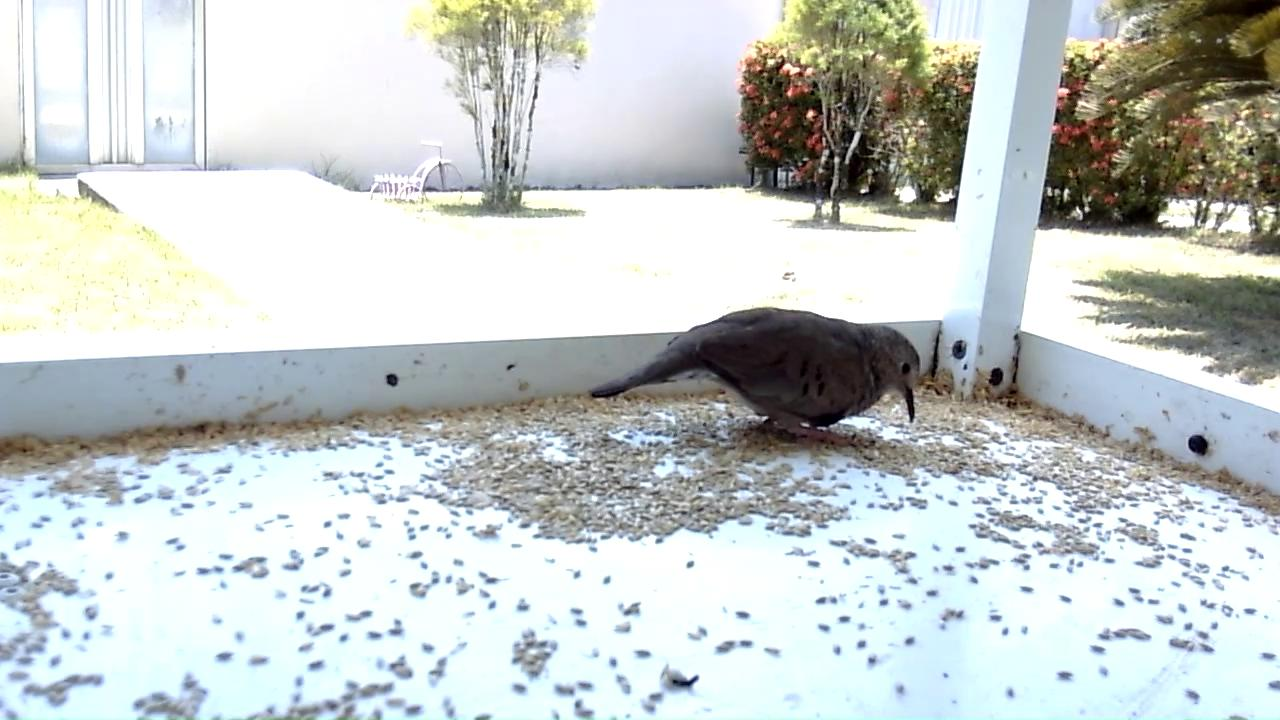rolinha: (585, 307, 927, 449)
